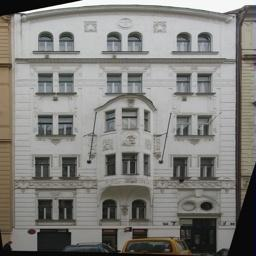building: (13, 0, 235, 246)
